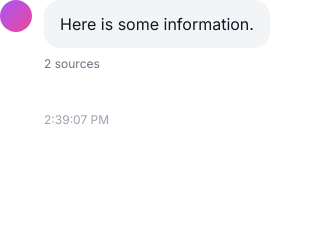
AIMessage › collapses citations when clicked again
Click the button "2 sources": (72, 64) [44,56,100,72]
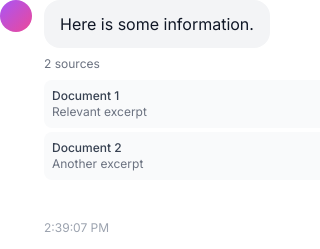
Expected: the text "Document 1" is shown, [52,88,119,103]
Click the button "2 sources": (72, 64) [44,56,100,72]
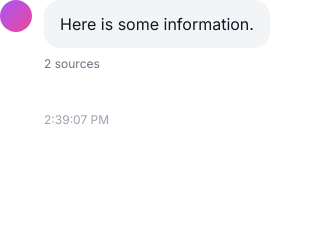
Expected: the link "Document 1" is gone
